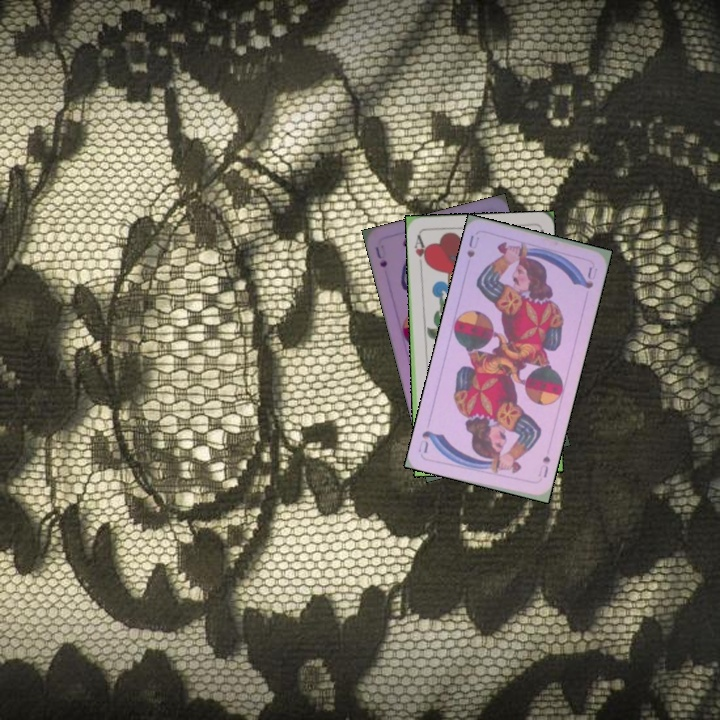HA: (410, 230, 430, 271)
SU: (463, 231, 482, 262), (371, 242, 390, 270), (534, 452, 553, 480)
